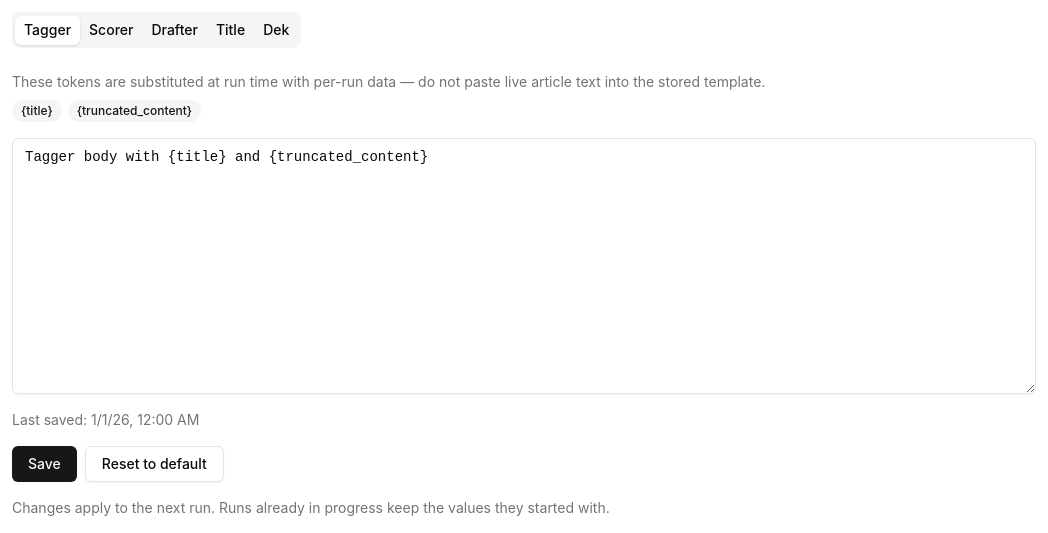
Test: PromptsEditor — tabs and placeholders › switching to Drafter shows drafter placeholder chips including {audience}
This screenshot has width=1048, height=533.
Step 1. Click the tab "Drafter" → (175, 30), box [142, 16, 207, 44]
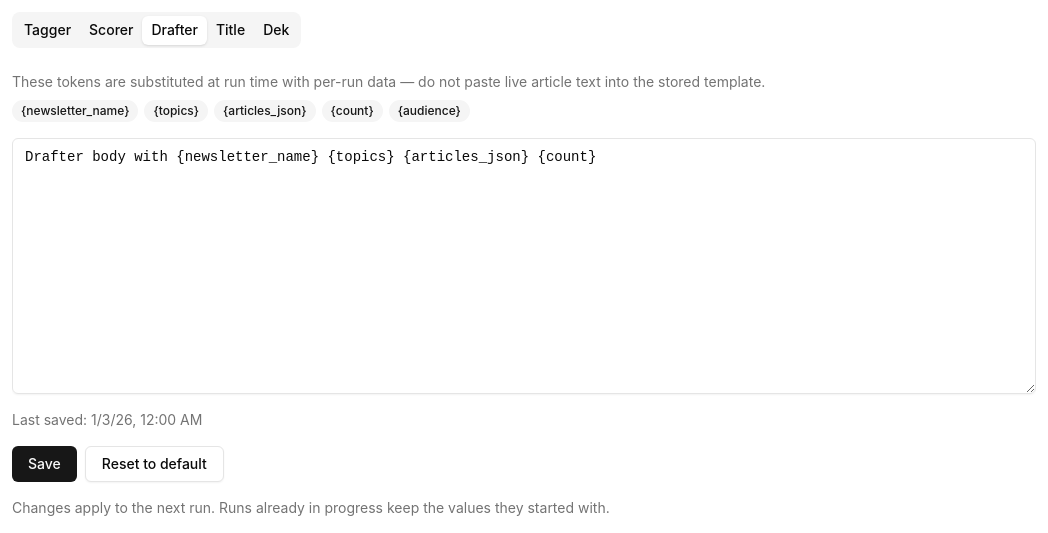
Expected: the text box holds "Drafter body with {newsletter_name} {topics} {articles_json} {count}", [12, 138, 1036, 394]
Expected: the text "{newsletter_name}" is shown, [12, 100, 138, 122]
Expected: the text "{topics}" is shown, [144, 100, 208, 122]
